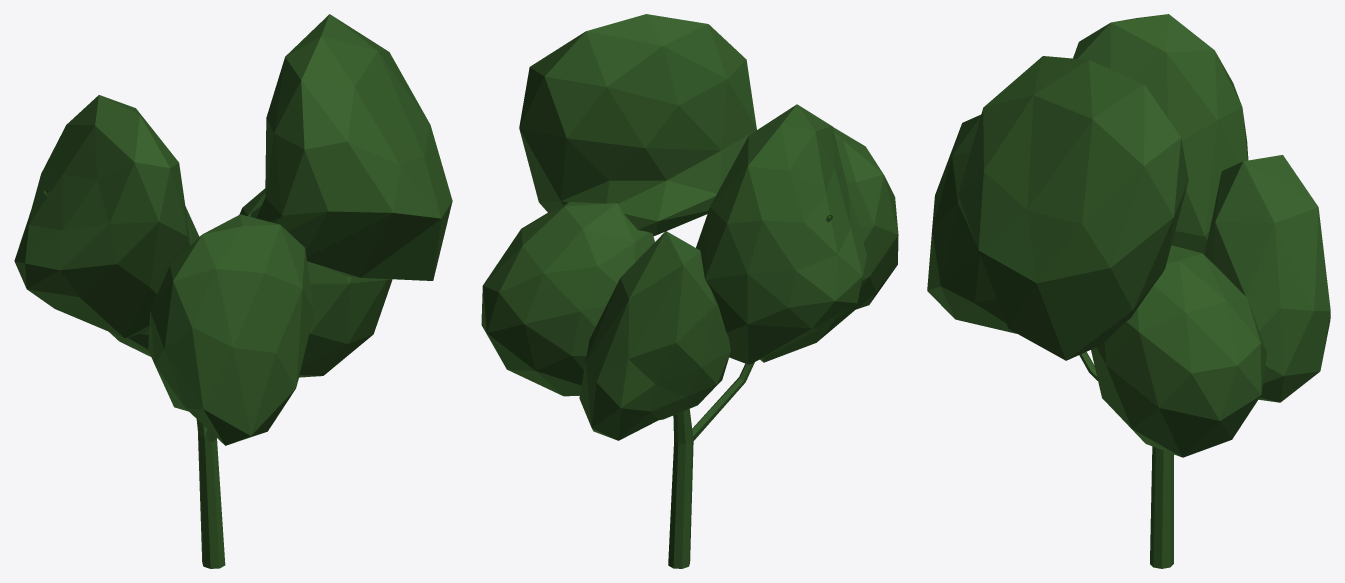
File: Birch4.FBX
The picture shows the model from 3 angles, left to right: view 1: azimuth 30°, elevation 25°; view 2: azimuth 150°, elevation 25°; view 3: azimuth 270°, elevation 25°; orthographic projection. The views are drawn at different scales.
Parts seen in each view (by area): view 1: Birch4; view 2: Birch4; view 3: Birch4.
Boxes of the visible parts, x1,y1,x2,y2 form: Birch4: [14, 14, 452, 568]; Birch4: [481, 14, 898, 568]; Birch4: [927, 14, 1330, 568].
Size of what is drawn, in the model's own units: 481 by 440 by 649.
